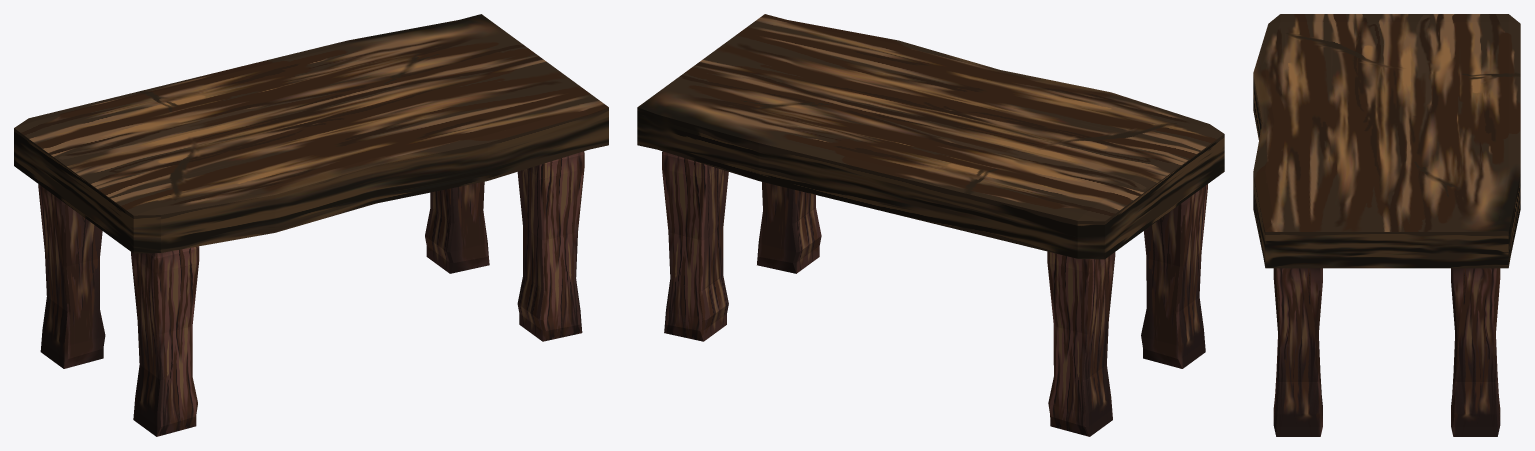
The model's file is Bord horror.fbx.
3 views of the same model, side by side, from view 1: azimuth 30°, elevation 25°; view 2: azimuth 150°, elevation 25°; view 3: azimuth 270°, elevation 25° (orthographic). The views are drawn at different scales.
Parts seen in each view (by area): view 1: Cube, Cube.001; view 2: Cube, Cube.001; view 3: Cube, Cube.001.
Part boxes in pixels (x1,y1,x2,y2): Cube: (14,14,608,253); Cube.001: (38,151,584,436); Cube: (637,14,1224,259); Cube.001: (662,151,1207,436); Cube: (1253,14,1520,268); Cube.001: (1273,268,1500,436).
Bounding box in the file's own units: 518 × 240 × 269.
Materials: 2 (2 with a texture image).
